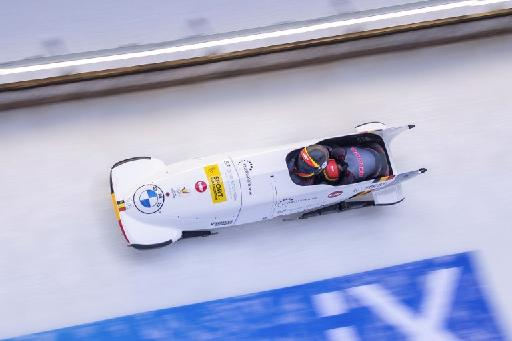Bobsleigh: (111, 125, 425, 248)
